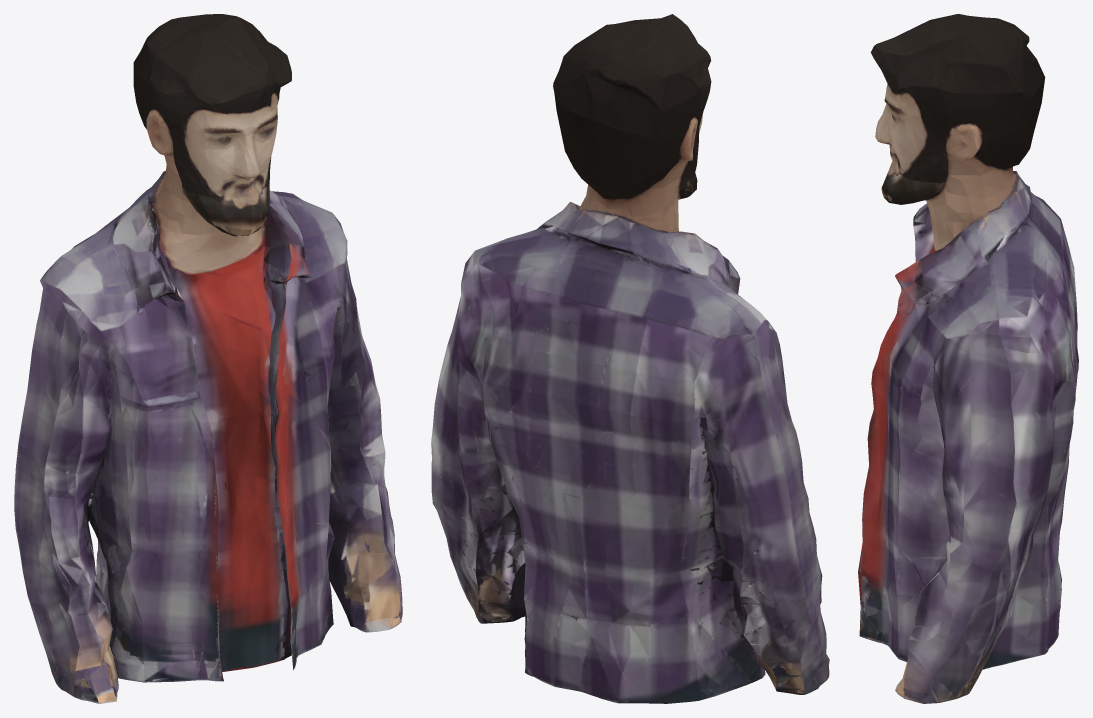
The model's file is step_11.glb.
3 views of the same model, side by side, from view 1: azimuth 30°, elevation 25°; view 2: azimuth 150°, elevation 25°; view 3: azimuth 270°, elevation 25° (orthographic). The views are drawn at different scales.
Parts seen in each view (by area): view 1: geometry_0; view 2: geometry_0; view 3: geometry_0.
Part boxes in pixels (left/top/right/bottom): geometry_0: left=14, top=14, right=402, bottom=703; geometry_0: left=431, top=14, right=829, bottom=703; geometry_0: left=858, top=14, right=1078, bottom=703.
Size of the model in its own units: 0.5061 by 0.8284 by 0.2754.
1 material, 1 textured.
